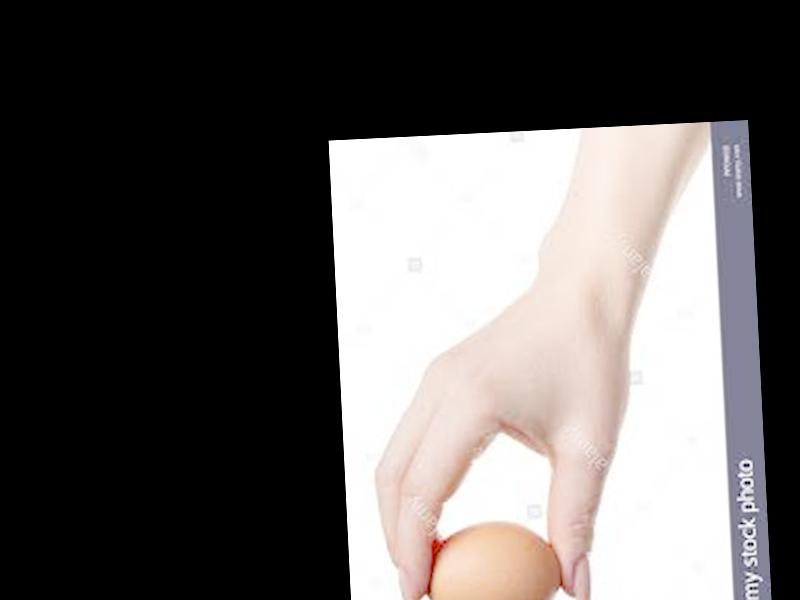Eggs: (424, 516, 560, 600)
